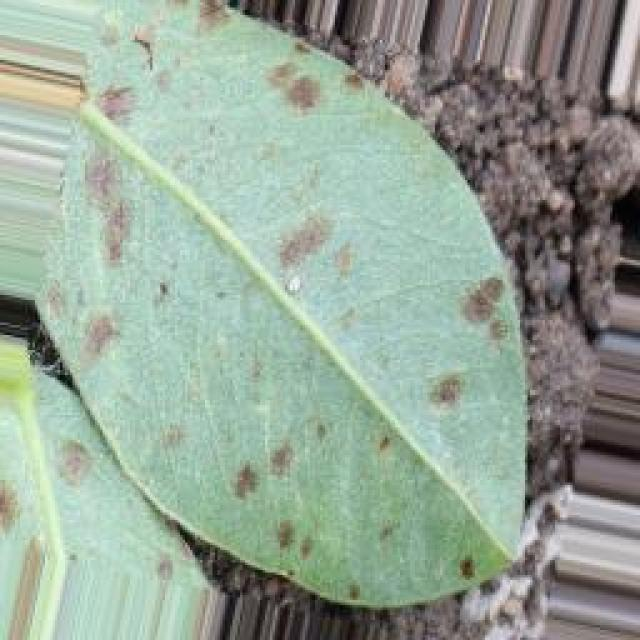Whitefly: (363, 254, 513, 450), (182, 399, 354, 557), (258, 166, 394, 355), (51, 79, 154, 271), (369, 494, 511, 585), (239, 29, 353, 118), (36, 280, 147, 369), (25, 414, 98, 506), (158, 0, 234, 46)
